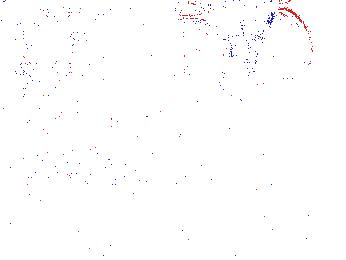moon jellyfish: (113, 55, 201, 131), (240, 7, 314, 95), (8, 26, 82, 102), (150, 18, 232, 77)
